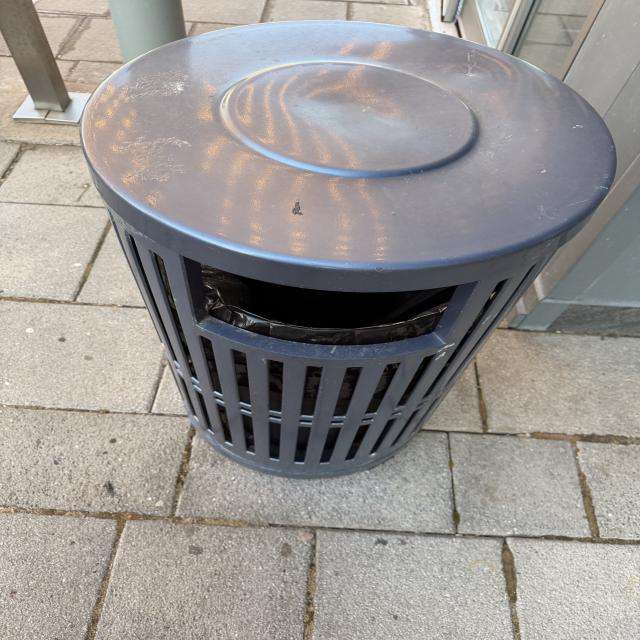Dustbin: (81, 20, 618, 479)
